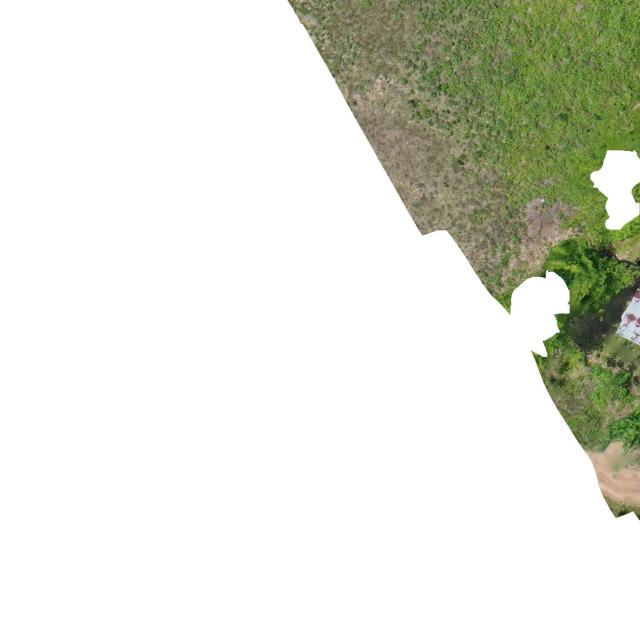Tree: (541, 233, 640, 318)
